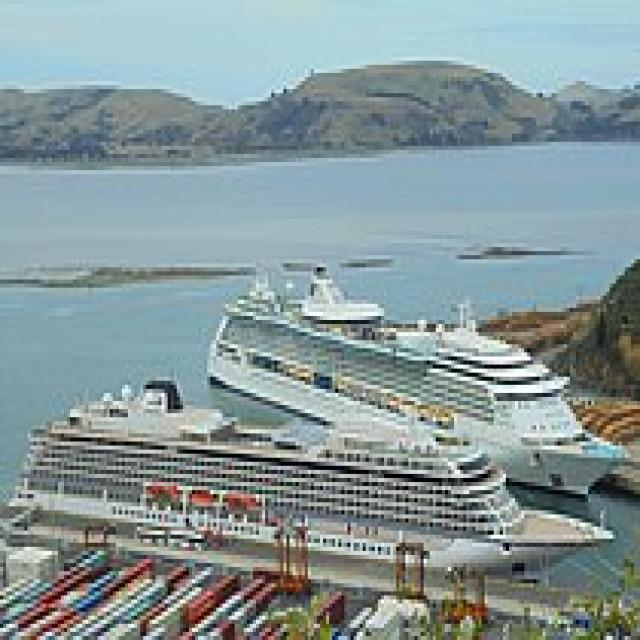Ship: (7, 370, 635, 605), (193, 248, 638, 507)
